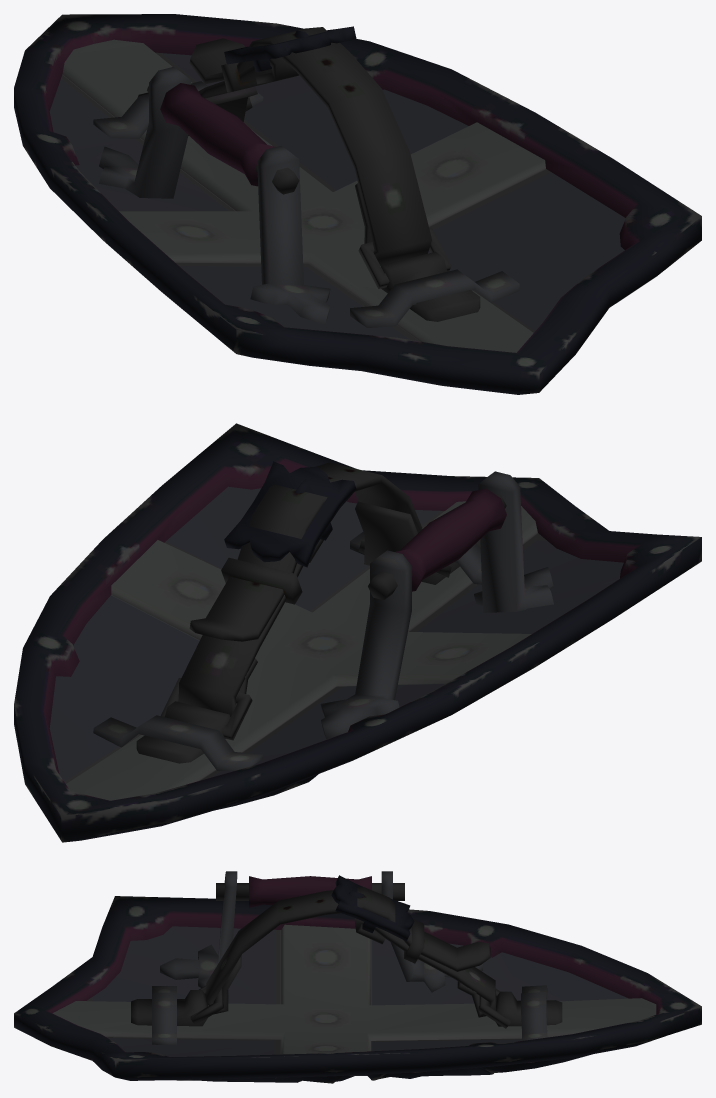
The model's file is Weapon_Shield_033.glb.
3 renders of one model, top to bottom at view 1: azimuth 30°, elevation 25°; view 2: azimuth 150°, elevation 25°; view 3: azimuth 270°, elevation 25°, orthographic. The views are drawn at different scales.
Parts seen in each view (by area): view 1: Weapon_Shield_033; view 2: Weapon_Shield_033; view 3: Weapon_Shield_033.
Part boxes in pixels (bbox=[...]): Weapon_Shield_033: bbox=[14, 14, 701, 394]; Weapon_Shield_033: bbox=[14, 423, 701, 842]; Weapon_Shield_033: bbox=[14, 871, 701, 1083].
Bounding box in the file's own units: 0.5278 × 0.2645 × 0.9363.
1 material, 1 textured.
